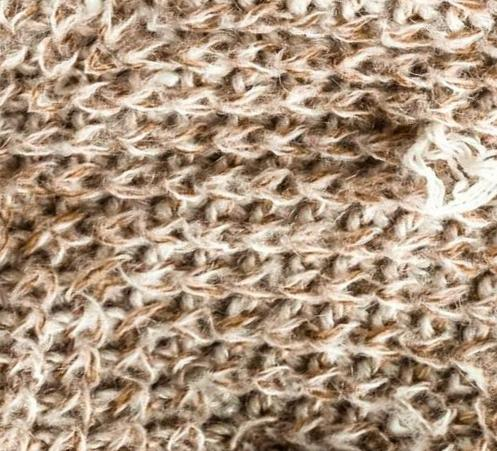snag: (394, 112, 497, 226)
